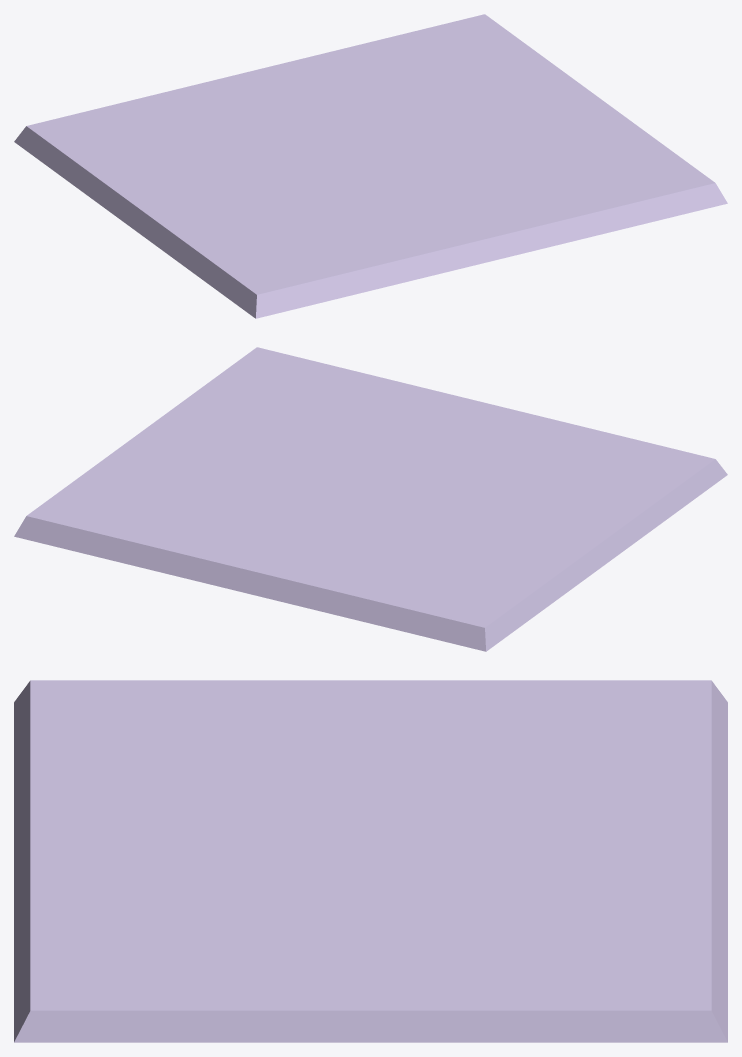
The picture shows the model from 3 angles, top to bottom: view 1: azimuth 30°, elevation 25°; view 2: azimuth 150°, elevation 25°; view 3: azimuth 270°, elevation 25°; orthographic projection. The views are drawn at different scales.
Visible parts, largest first — view 1: Object16; view 2: Object16; view 3: Object16.
Part boxes in pixels (bbox=[...]): Object16: bbox=[14, 14, 727, 318]; Object16: bbox=[14, 347, 727, 651]; Object16: bbox=[14, 680, 727, 1042].
Size of the model in its own units: 170 by 6.29 by 151.
